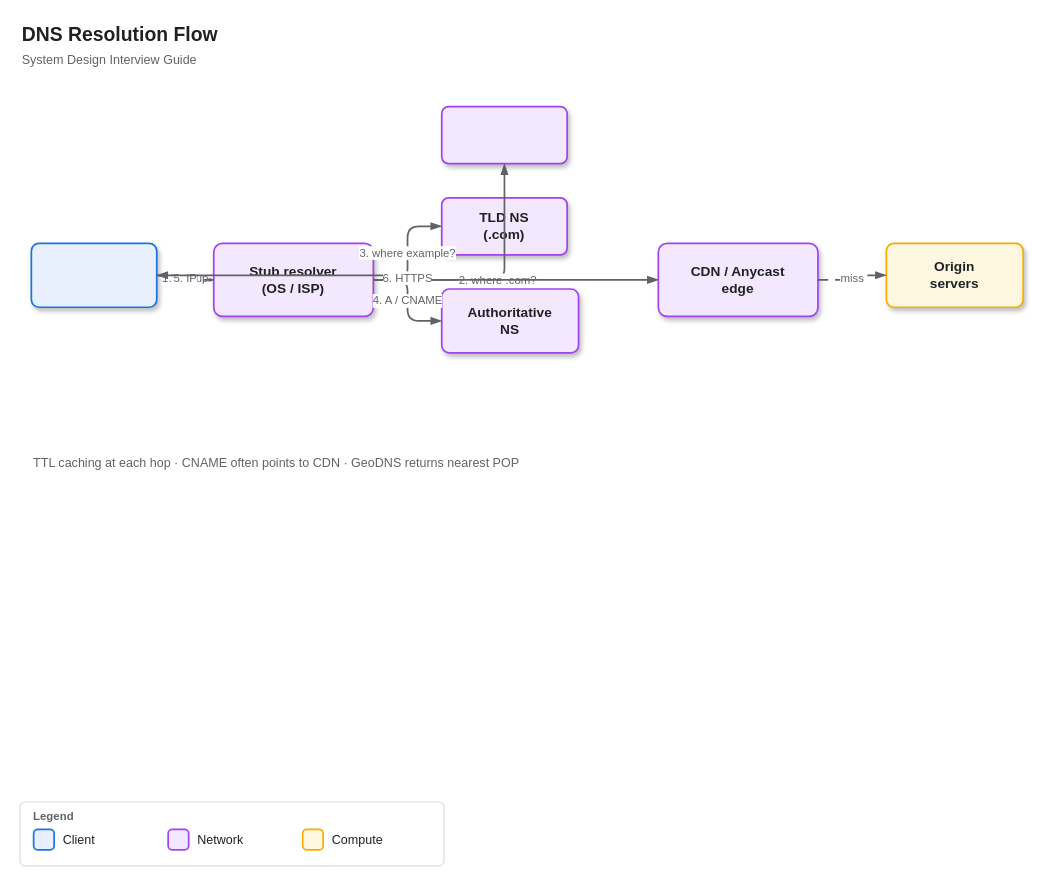
Some shapes in this 1051 by 886 pixel diagram are drawn without their labels. Here are the shapes that lost their labels. From the top down, the centre of each, then its label:
point (505, 136): Root NS
point (94, 276): Browser
